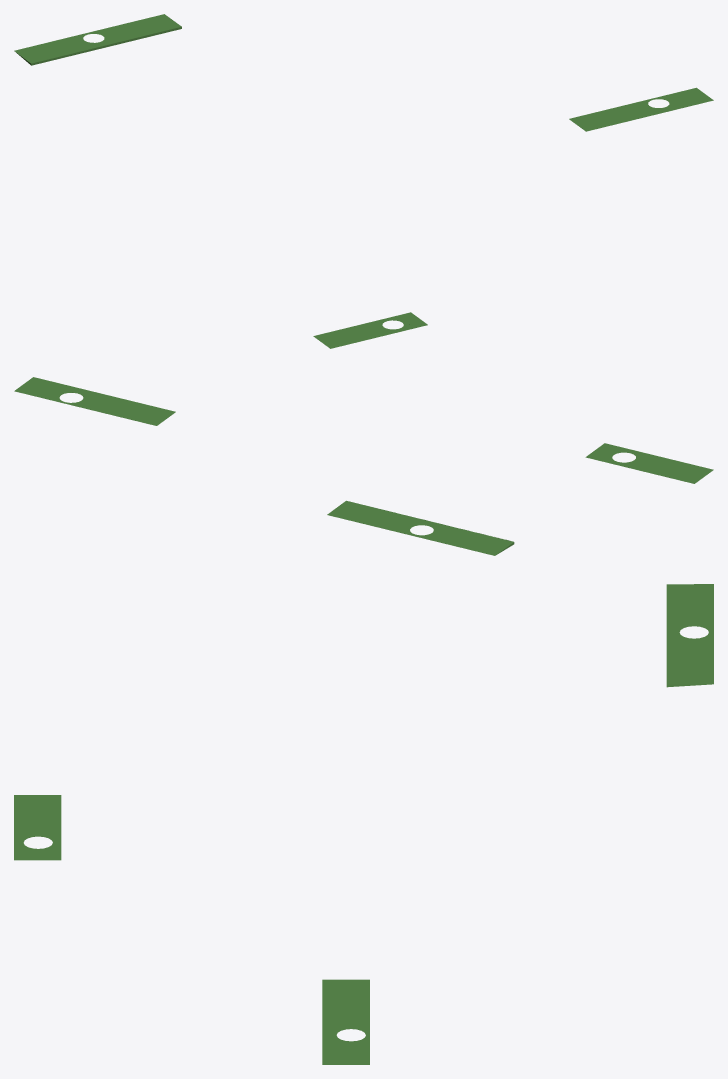
The model's file is 시냇물숲_구덩이바닥_큐브.fbx.
The picture shows the model from 3 angles, top to bottom: view 1: azimuth 30°, elevation 25°; view 2: azimuth 150°, elevation 25°; view 3: azimuth 270°, elevation 25°; orthographic projection. The views are drawn at different scales.
Parts seen in each view (by area): view 1: 3_시냇물숲_구덩이바닥_Cube, 3_시냇물숲_구덩이바닥_Cube.002, 3_시냇물숲_구덩이바닥_Cube.001; view 2: 3_시냇물숲_구덩이바닥_Cube, 3_시냇물숲_구덩이바닥_Cube.002, 3_시냇물숲_구덩이바닥_Cube.001; view 3: 3_시냇물숲_구덩이바닥_Cube, 3_시냇물숲_구덩이바닥_Cube.002, 3_시냇물숲_구덩이바닥_Cube.001.
Boxes of the visible parts, x1,y1,x2,y2 form: 3_시냇물숲_구덩이바닥_Cube: (14, 14, 181, 65); 3_시냇물숲_구덩이바닥_Cube.002: (569, 87, 713, 131); 3_시냇물숲_구덩이바닥_Cube.001: (313, 312, 427, 348); 3_시냇물숲_구덩이바닥_Cube: (327, 500, 514, 555); 3_시냇물숲_구덩이바닥_Cube.002: (14, 377, 175, 425); 3_시냇물숲_구덩이바닥_Cube.001: (585, 443, 713, 483); 3_시냇물숲_구덩이바닥_Cube: (666, 584, 713, 687); 3_시냇물숲_구덩이바닥_Cube.002: (322, 979, 369, 1064); 3_시냇물숲_구덩이바닥_Cube.001: (14, 795, 61, 860).
Bounding box in the file's own units: 18845 × 23629 × 5083.
